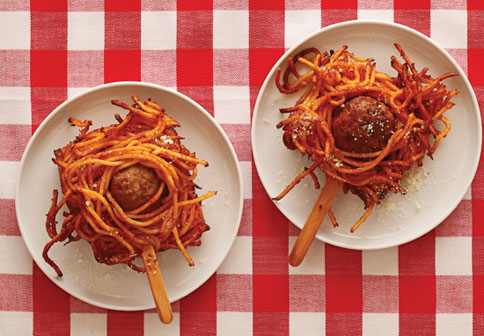meatballs: (333, 98, 393, 149), (108, 164, 162, 211)
plain spaghetti: (63, 117, 199, 258), (288, 61, 431, 187)
